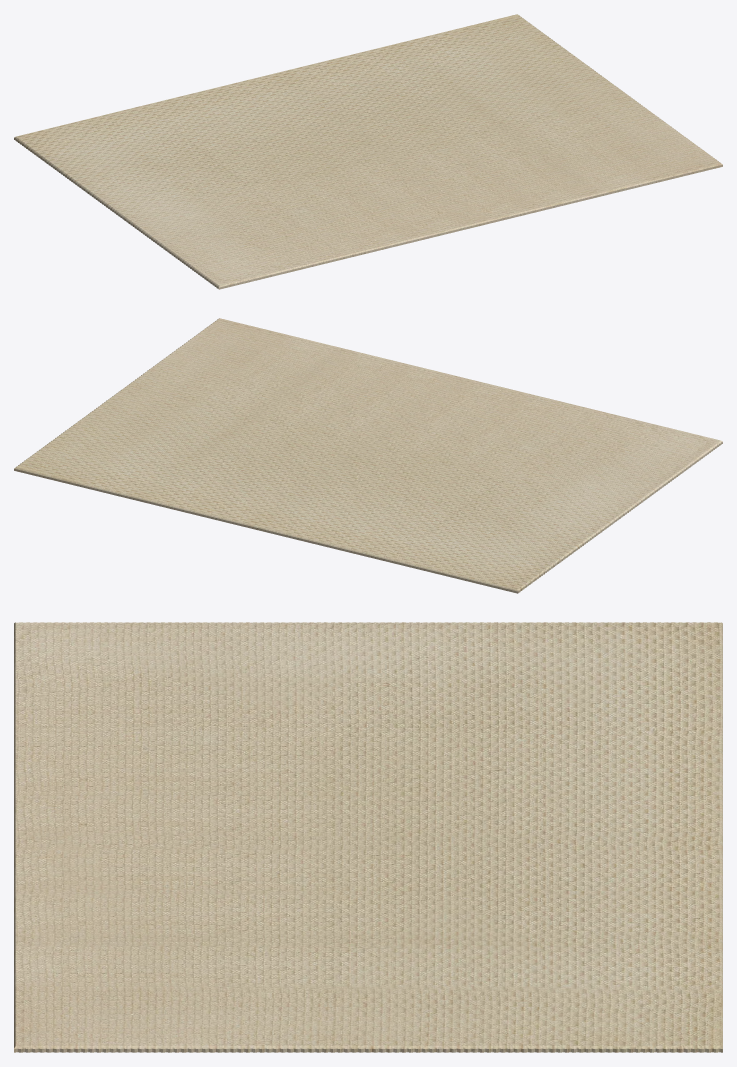
The model's file is B071LQHW1P.glb.
3 views of the same model, one above another, from view 1: azimuth 30°, elevation 25°; view 2: azimuth 150°, elevation 25°; view 3: azimuth 270°, elevation 25° (orthographic). The views are drawn at different scales.
Parts seen in each view (by area): view 1: RootNode; view 2: RootNode; view 3: RootNode.
Part boxes in pixels (left/top/right/bottom): RootNode: left=14, top=14, right=722, bottom=289; RootNode: left=14, top=318, right=722, bottom=593; RootNode: left=14, top=622, right=722, bottom=1052.
Bounding box in the file's own units: 2.14 × 0.0133 × 1.51.
Materials: 1 (1 with a texture image).
